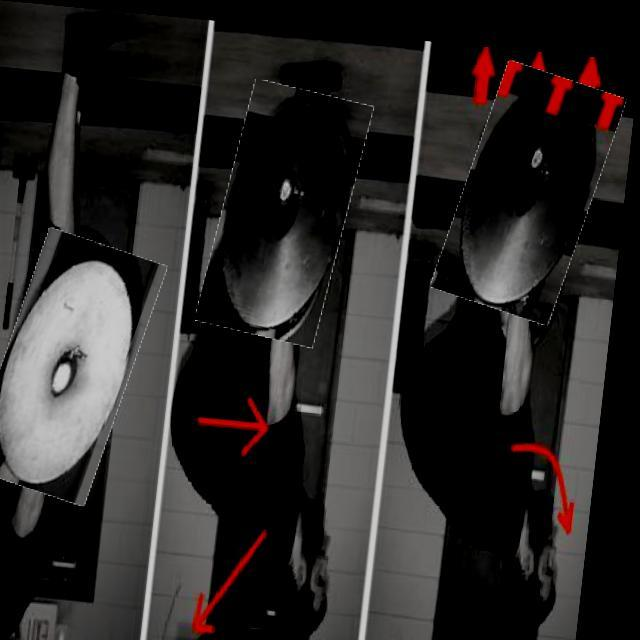barbell: (447, 52, 618, 312), (1, 228, 163, 502), (209, 76, 369, 341)
